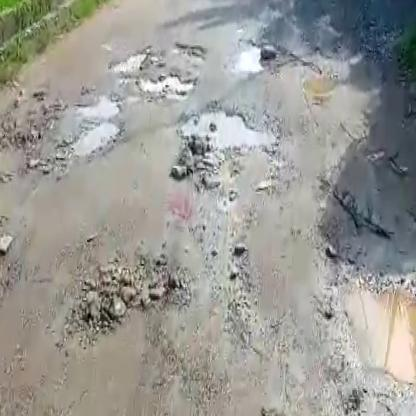pothole: (328, 267, 416, 411), (79, 245, 191, 337), (190, 102, 282, 150), (71, 121, 125, 160), (348, 51, 390, 95), (134, 71, 195, 100), (75, 91, 123, 125), (299, 65, 344, 100), (236, 42, 269, 74), (170, 38, 209, 59)
